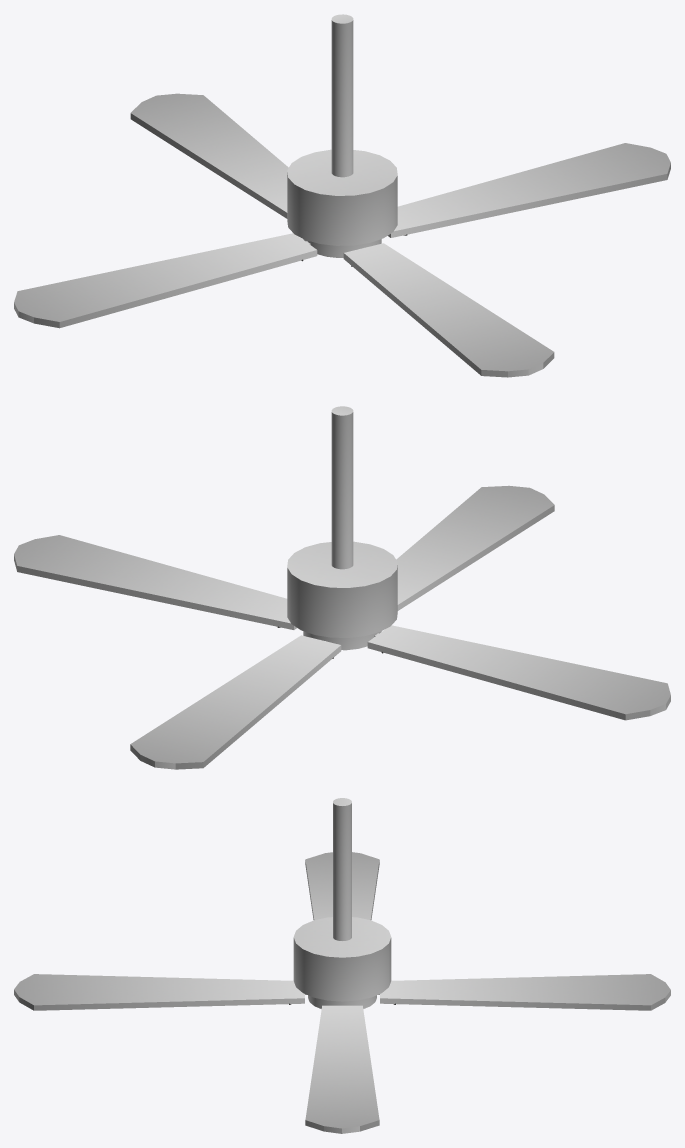
Rendered from ceiling fan.fbx.
3 renders of one model, top to bottom at view 1: azimuth 30°, elevation 25°; view 2: azimuth 150°, elevation 25°; view 3: azimuth 270°, elevation 25°, orthographic. The views are drawn at different scales.
Visible parts, largest first — view 1: ceiling_fan; view 2: ceiling_fan; view 3: ceiling_fan.
Boxes of the visible parts, x1,y1,x2,y2 form: ceiling_fan: (14,14,670,377); ceiling_fan: (14,406,670,769); ceiling_fan: (14,798,670,1133).
Size of the model in its own units: 3.36 by 1.1 by 3.36.
